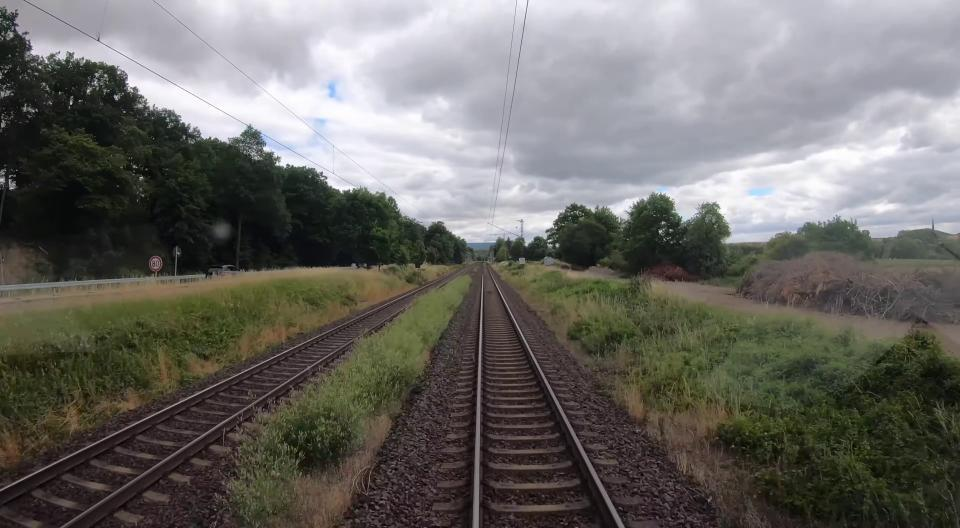Plant: (211, 276, 470, 528)
